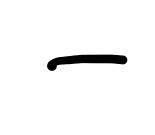minus: (47, 54, 128, 71)
